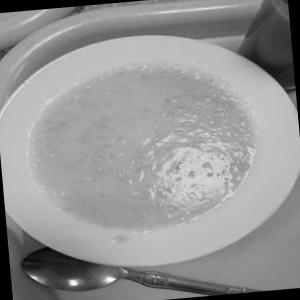porridge: (9, 40, 272, 242)
